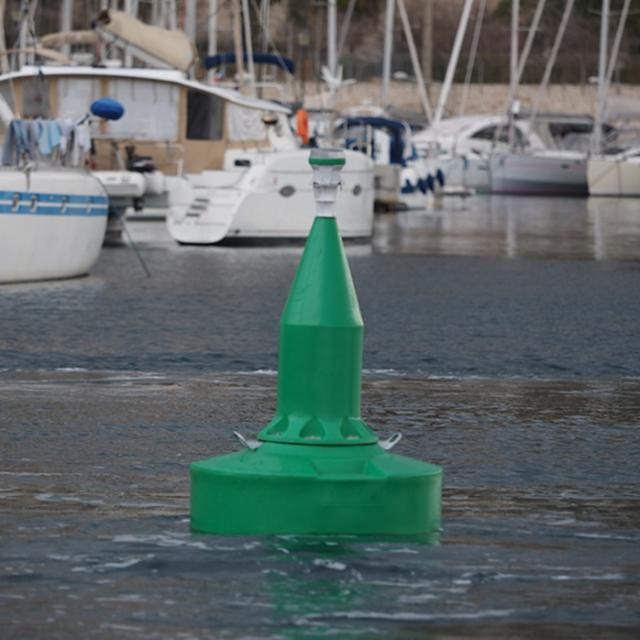buoy: (186, 140, 441, 546)
